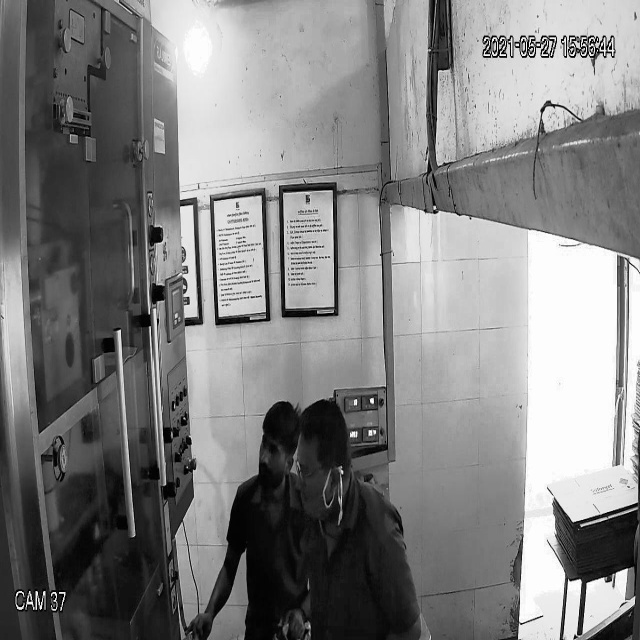Sin_gafas: (254, 426, 298, 467)
